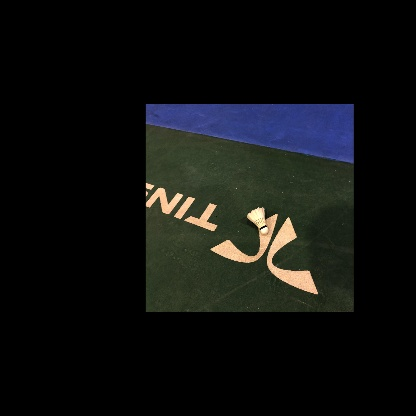ball_single: (246, 207, 269, 234)
